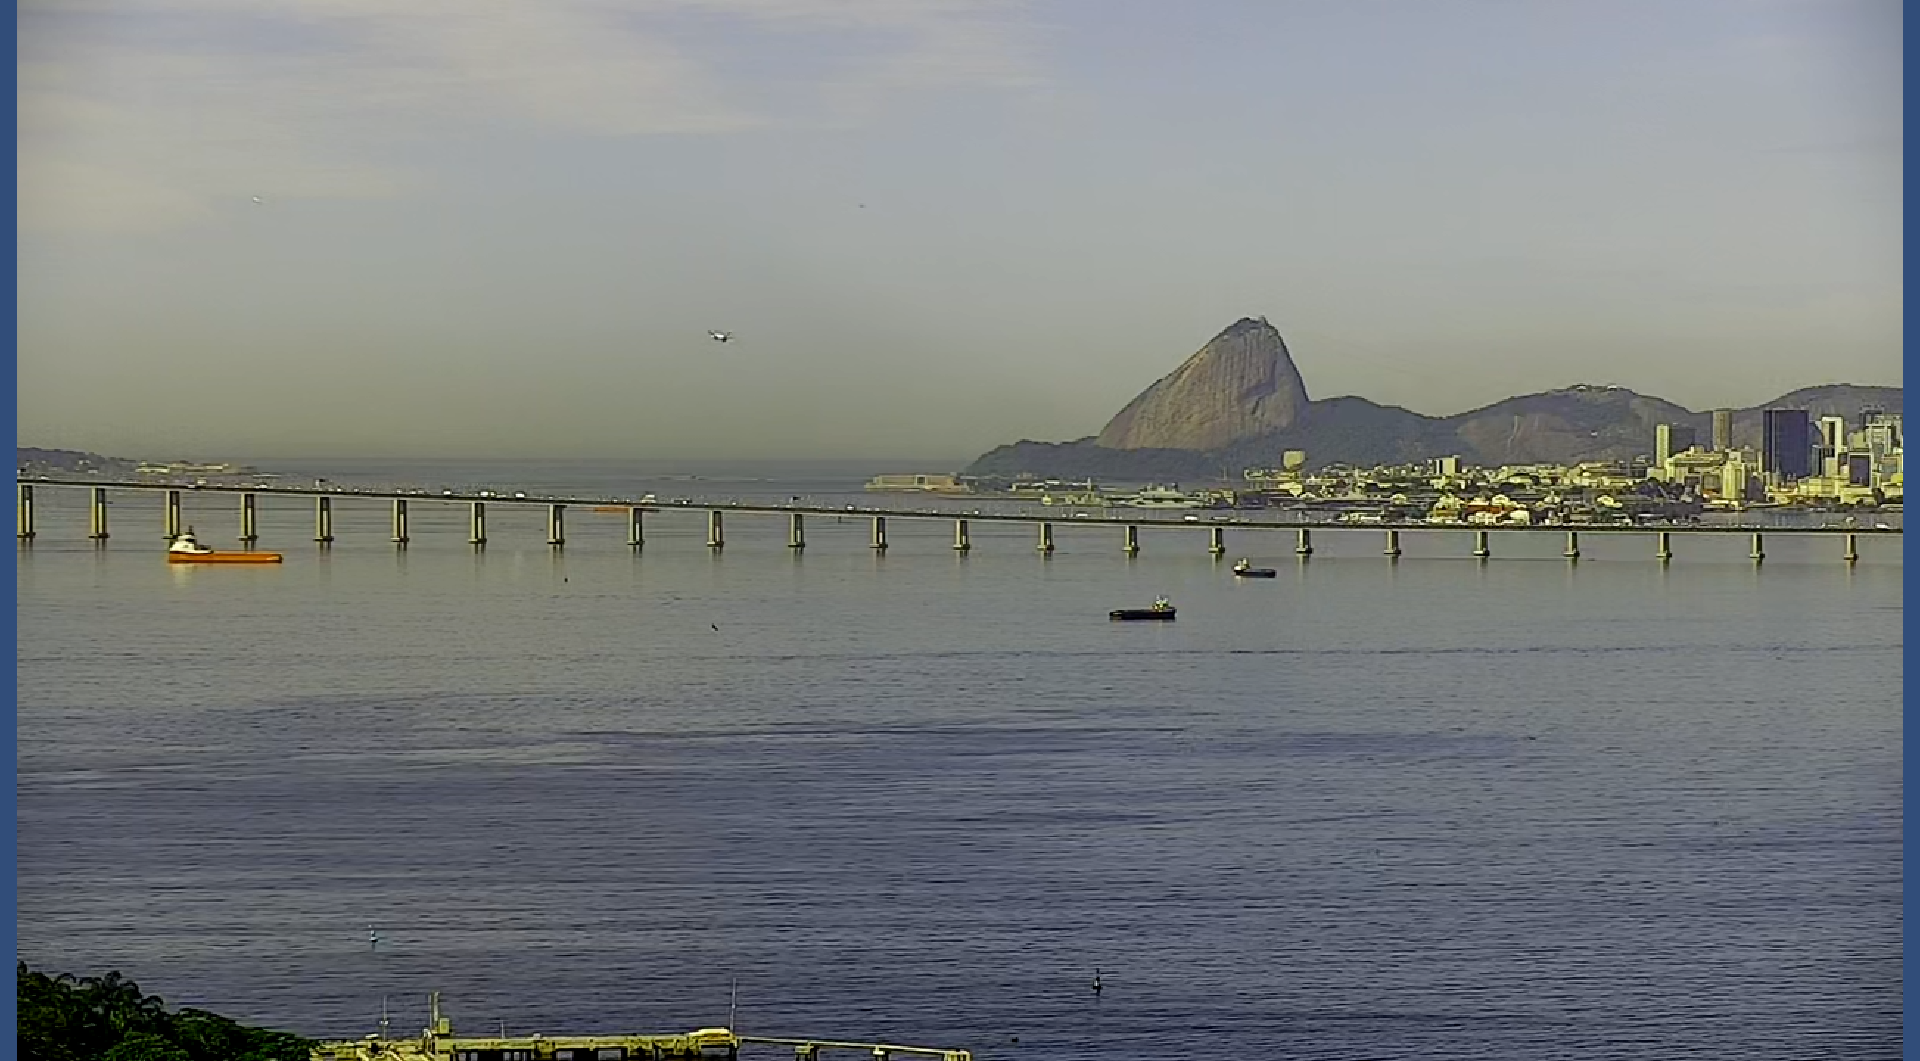Ship0: (1102, 480, 1229, 510)
Ship5: (166, 527, 286, 566), (1108, 592, 1179, 621), (1233, 555, 1277, 579)
